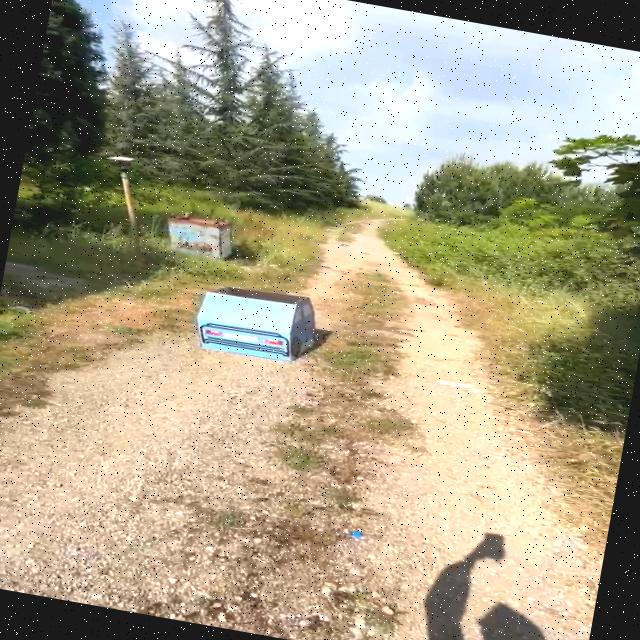blue_car: (167, 267, 344, 382)
